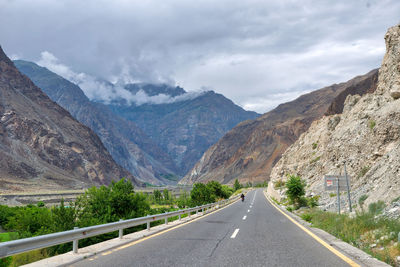straightRoad: (182, 187, 275, 267)
